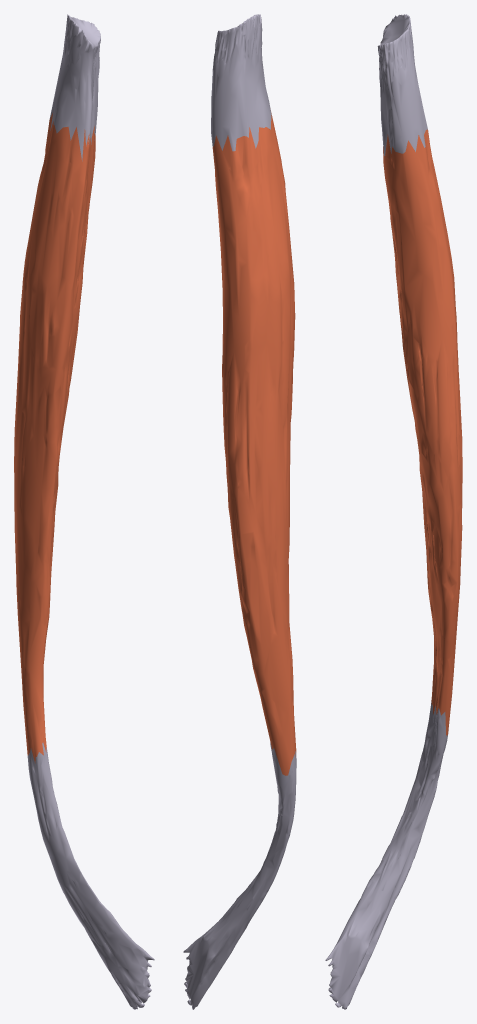
File: Semitendinosus_left.glb
3 renders of one model, left to right at view 1: azimuth 90°, elevation 25°; view 2: azimuth 210°, elevation 25°; view 3: azimuth 270°, elevation 25°, orthographic. The views are drawn at different scales.
Parts seen in each view (by area): view 1: Semitendinosus_muscle.l_Generated_Mesh_From_X3D.223; view 2: Semitendinosus_muscle.l_Generated_Mesh_From_X3D.223; view 3: Semitendinosus_muscle.l_Generated_Mesh_From_X3D.223.
Boxes of the visible parts, x1,y1,x2,y2 form: Semitendinosus_muscle.l_Generated_Mesh_From_X3D.223: (14,14,154,1009); Semitendinosus_muscle.l_Generated_Mesh_From_X3D.223: (183,14,296,1009); Semitendinosus_muscle.l_Generated_Mesh_From_X3D.223: (325,14,462,1009).
Size of the model in its own units: 0.036 by 0.46 by 0.0583.
